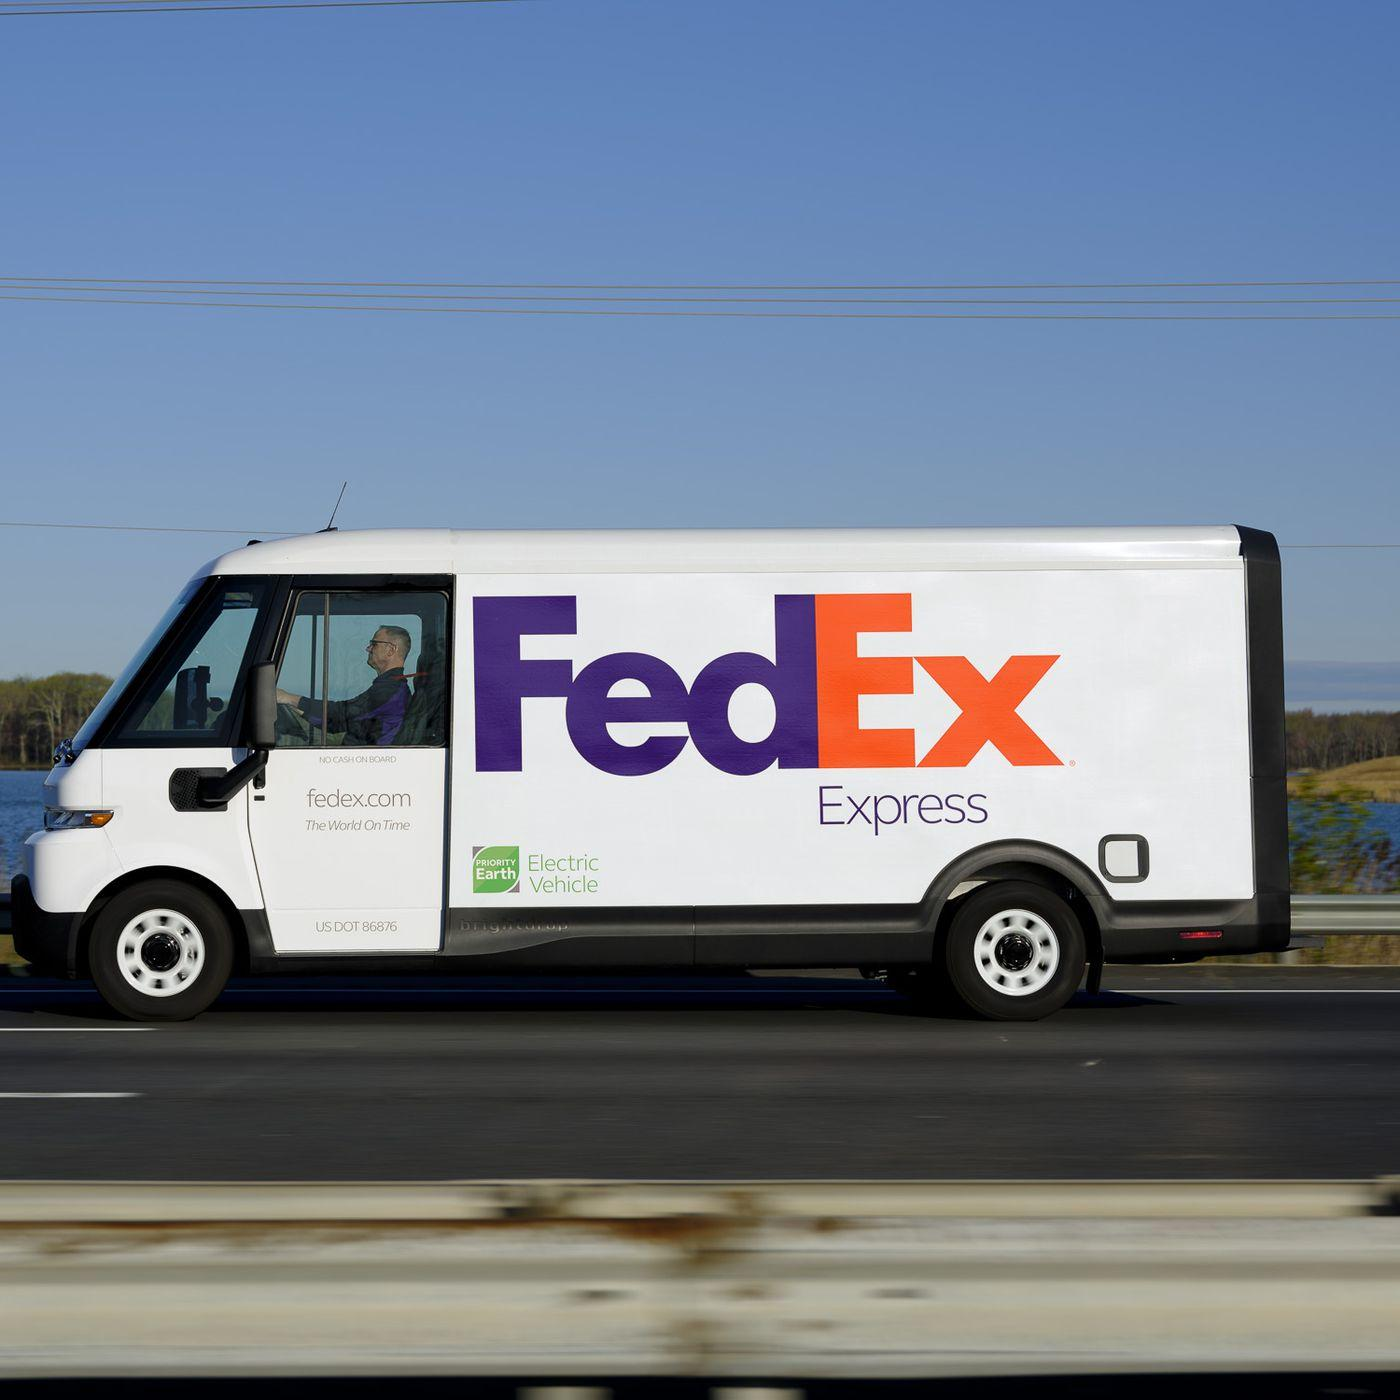van: (6, 524, 1288, 1021)
